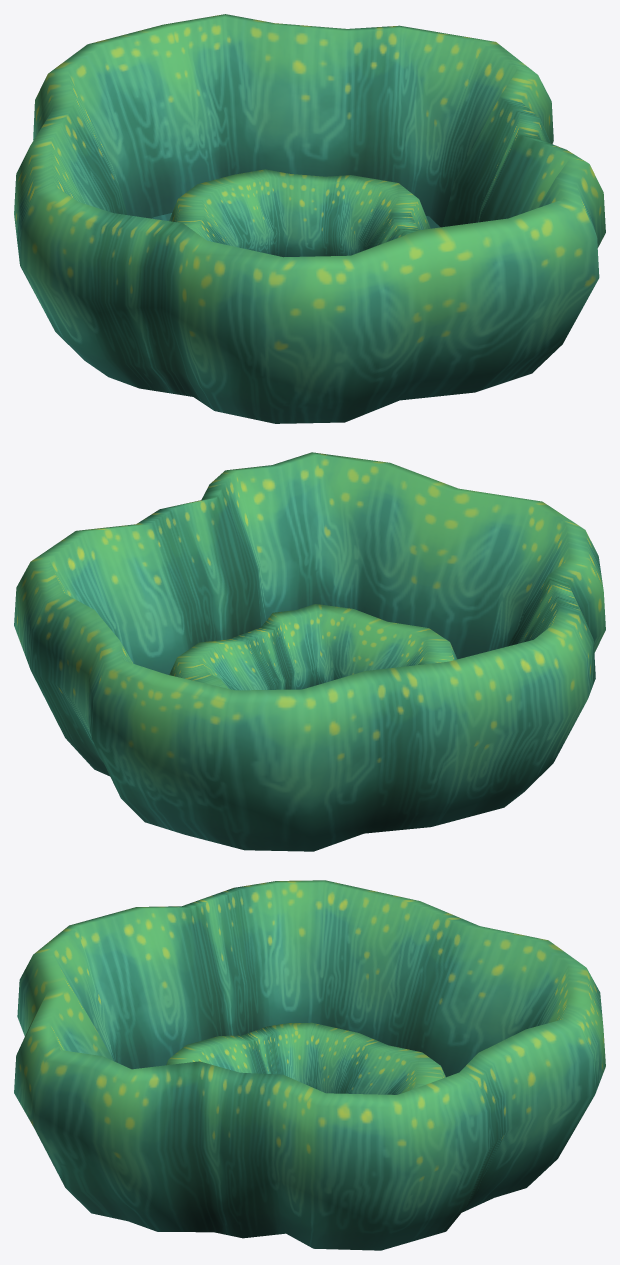
Rendered from DimRock_Green_07.FBX.
3 renders of one model, top to bottom at view 1: azimuth 30°, elevation 25°; view 2: azimuth 150°, elevation 25°; view 3: azimuth 270°, elevation 25°, orthographic. The views are drawn at different scales.
Parts seen in each view (by area): view 1: DimRock_Green_05; view 2: DimRock_Green_05; view 3: DimRock_Green_05.
Boxes of the visible parts, x1=… form: DimRock_Green_05: x1=14, y1=14, x2=605, y2=423; DimRock_Green_05: x1=14, y1=452, x2=605, y2=851; DimRock_Green_05: x1=14, y1=880, x2=605, y2=1250.
Bounding box in the file's own units: 71.98 × 24.06 × 74.8.
